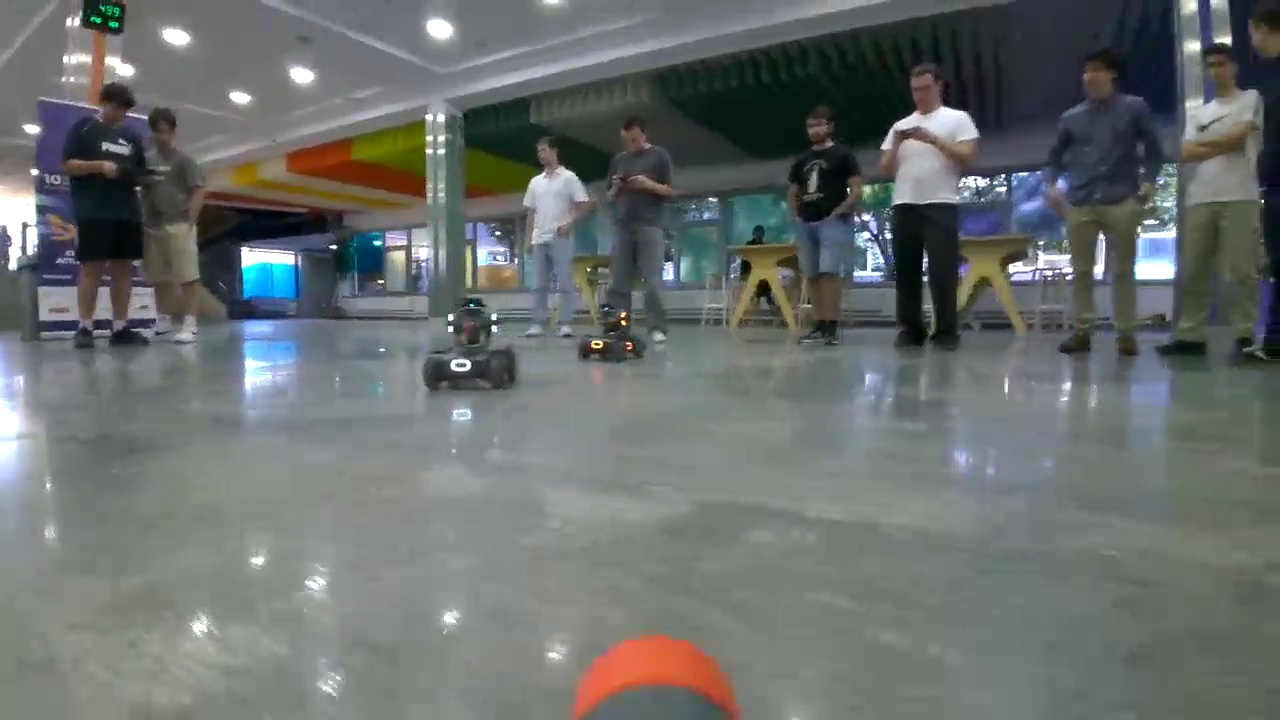robot: (422, 300, 516, 389), (578, 303, 648, 362)
